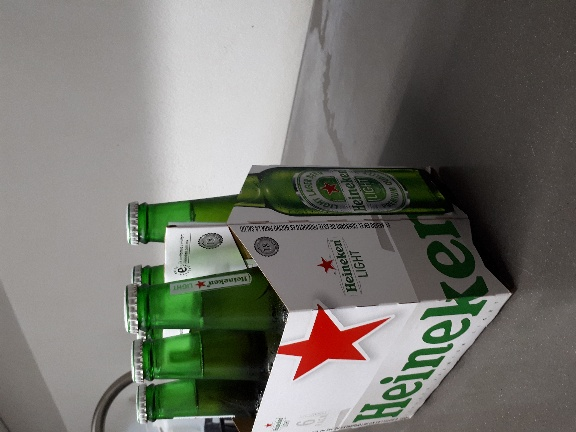HLB: (167, 119, 317, 163), (221, 164, 278, 219), (118, 193, 184, 221)
